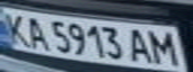1: (84, 22, 106, 58)
3: (100, 24, 127, 61)
5: (45, 18, 72, 54)
9: (63, 20, 87, 56)
A: (18, 13, 51, 51), (124, 26, 154, 64)
K: (0, 9, 33, 47)
M: (142, 27, 184, 66)
